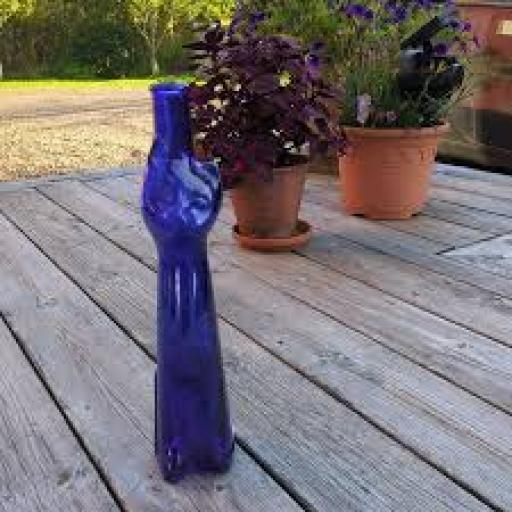blue-bottle: (141, 86, 232, 480)
